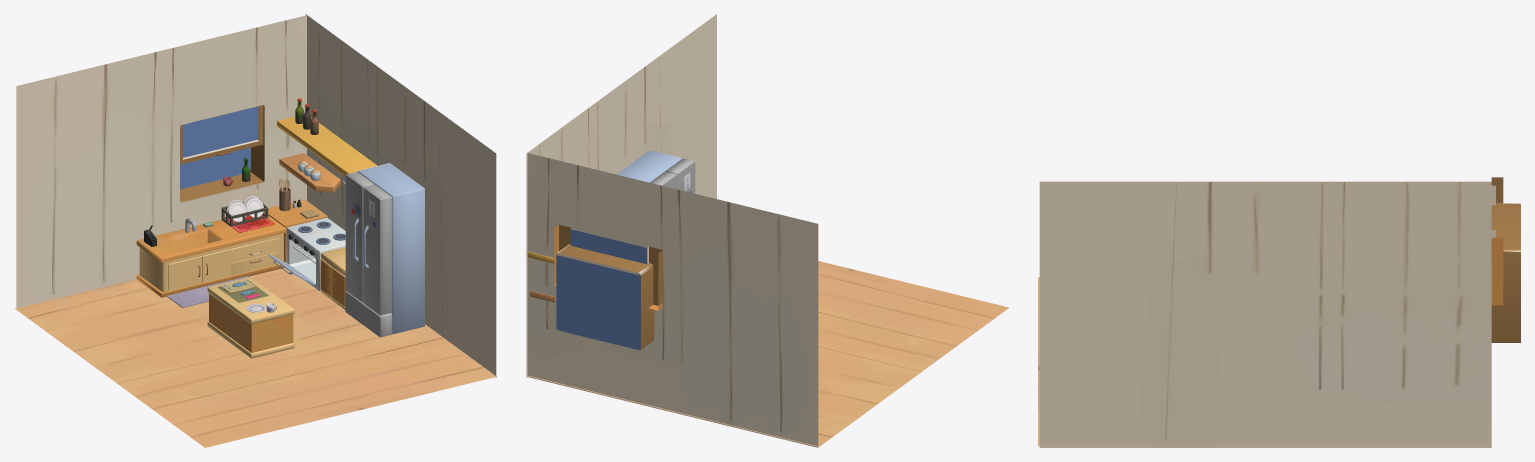
Rendered from 3d_Environment_Kitchen.fbx.
The picture shows the model from 3 angles, left to right: view 1: azimuth 30°, elevation 25°; view 2: azimuth 150°, elevation 25°; view 3: azimuth 270°, elevation 25°; orthographic projection. The views are drawn at different scales.
Visible parts, largest first — view 1: leftwall, floor, Box013, fridge, sink, island, window, topshhelf, oven, cabinetright, bottomshelf, crnrcabnet (+2 smaller); view 2: leftwall, floor, Box013, window, fridge; view 3: Box013, leftwall, window, floor.
Boxes of the visible parts, x1,y1,x2,y2 form: leftwall: (16, 15, 306, 308); floor: (14, 268, 496, 447); Box013: (305, 14, 496, 377); fridge: (345, 163, 424, 337); sink: (136, 212, 286, 297); island: (207, 277, 294, 358); window: (180, 105, 263, 164); topshhelf: (277, 116, 377, 176); oven: (286, 218, 345, 291); cabinetright: (320, 247, 346, 309); bottomshelf: (279, 153, 340, 192); crnrcabnet: (264, 199, 327, 262); leftwall: (527, 153, 818, 447); floor: (527, 261, 1009, 446); Box013: (526, 14, 716, 377); window: (554, 224, 662, 310); fridge: (617, 150, 695, 193); Box013: (1039, 181, 1491, 447); leftwall: (1491, 203, 1520, 342); window: (1491, 177, 1503, 305); floor: (1038, 277, 1489, 446).
Bounding box in the file's own units: 560 × 413 × 675.
1 material, 1 textured.
